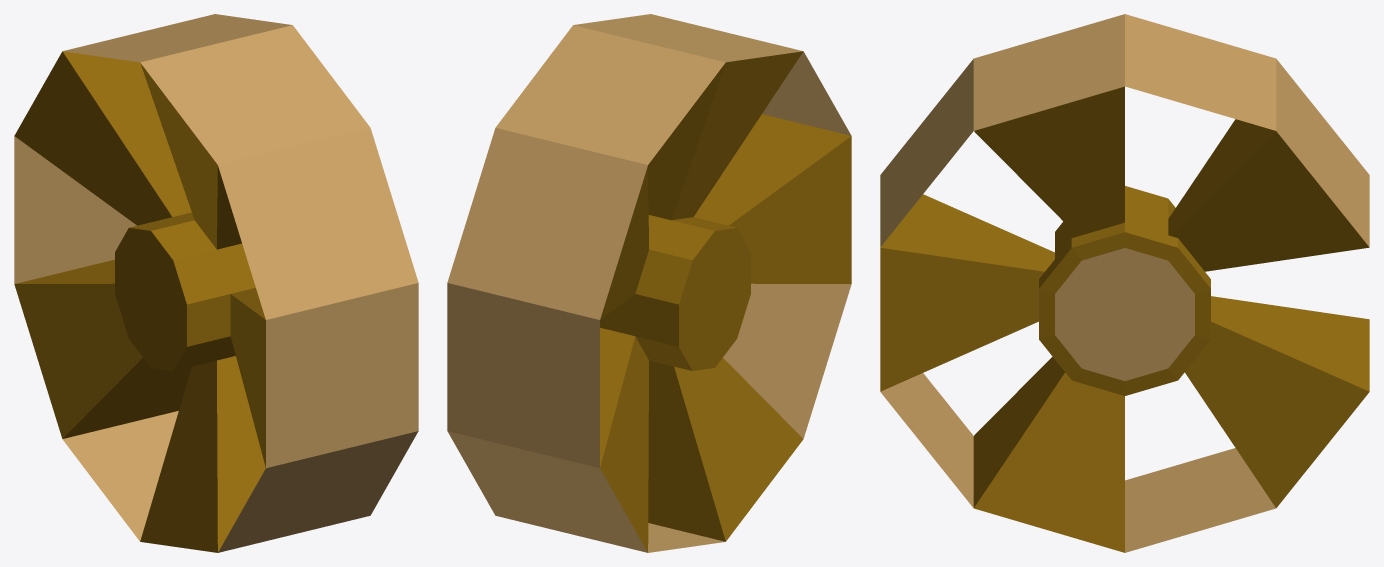
The model's file is gBBumper_01.fbx.
3 renders of one model, left to right at view 1: azimuth 30°, elevation 25°; view 2: azimuth 150°, elevation 25°; view 3: azimuth 270°, elevation 25°, orthographic. The views are drawn at different scales.
Visible parts, largest first — view 1: gBBumper_01; view 2: gBBumper_01; view 3: gBBumper_01.
Part boxes in pixels (x1=…): gBBumper_01: x1=14, y1=14, x2=418, y2=552; gBBumper_01: x1=447, y1=14, x2=851, y2=552; gBBumper_01: x1=880, y1=14, x2=1369, y2=552.
Bounding box in the file's own units: 139 × 418 × 397.
